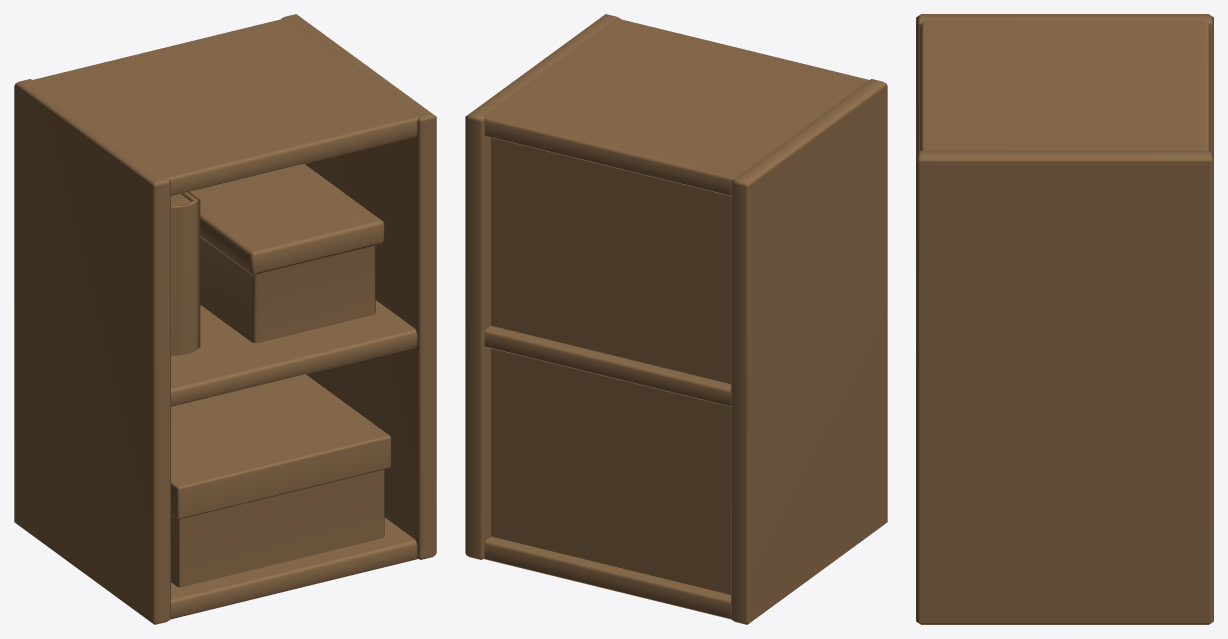
Rendered from color-box-shelf.glb.
3 renders of one model, left to right at view 1: azimuth 30°, elevation 25°; view 2: azimuth 150°, elevation 25°; view 3: azimuth 270°, elevation 25°, orthographic. The views are drawn at different scales.
Visible parts, largest first — view 1: FtrColorBoxShelf_node1, FtrColorBoxShelf_node2; view 2: FtrColorBoxShelf_node1; view 3: FtrColorBoxShelf_node1.
Boxes of the visible parts, x1=… form: FtrColorBoxShelf_node1: x1=14, y1=14, x2=436, y2=624; FtrColorBoxShelf_node2: x1=171, y1=164, x2=391, y2=587; FtrColorBoxShelf_node1: x1=465, y1=14, x2=887, y2=624; FtrColorBoxShelf_node1: x1=916, y1=14, x2=1213, y2=624.
Bounding box in the file's own units: 8.28 × 12.31 × 7.1.
